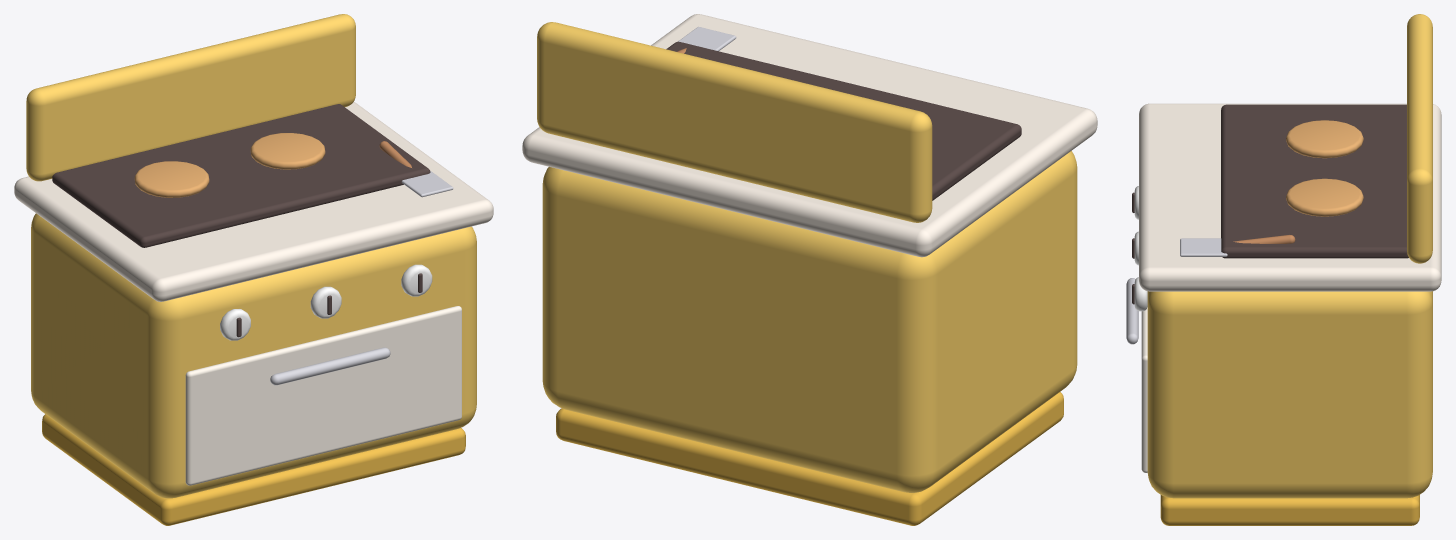
Rendered from station_griddle.glb.
3 views of the same model, side by side, from view 1: azimuth 30°, elevation 25°; view 2: azimuth 150°, elevation 25°; view 3: azimuth 270°, elevation 25° (orthographic). The views are drawn at different scales.
Parts seen in each view (by area): view 1: Griddle, Cooking; view 2: Griddle; view 3: Griddle, Cooking.
Boxes of the visible parts, bbox=[...] form: Griddle: bbox=[14, 14, 493, 525]; Cooking: bbox=[134, 133, 325, 197]; Griddle: bbox=[522, 14, 1097, 525]; Griddle: bbox=[1126, 14, 1441, 525]; Cooking: bbox=[1286, 120, 1363, 216].
Size of the model in its own units: 0.94 by 0.92 by 0.729.
